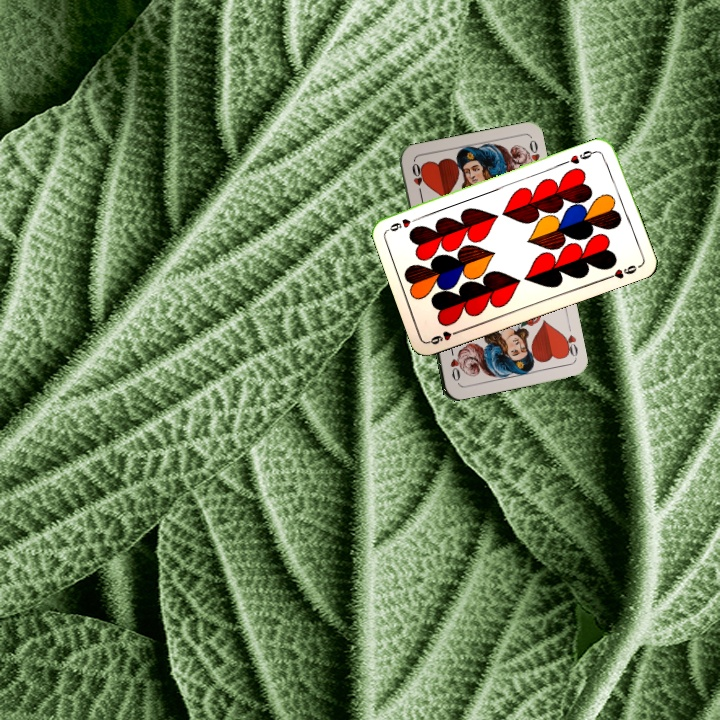H9: (425, 325, 465, 347), (561, 146, 601, 167)
HO: (408, 159, 425, 199), (558, 330, 580, 360)
